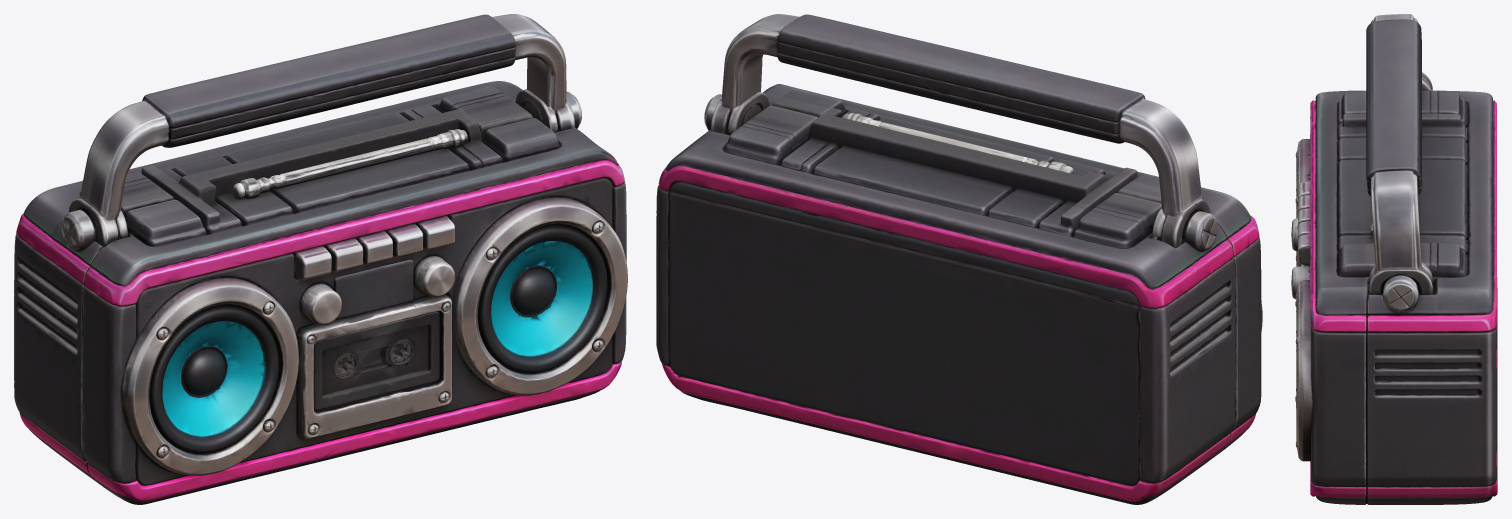
File: boombox.glb
3 views of the same model, side by side, from view 1: azimuth 30°, elevation 25°; view 2: azimuth 150°, elevation 25°; view 3: azimuth 270°, elevation 25° (orthographic). The views are drawn at different scales.
Parts seen in each view (by area): view 1: tripo_node_c67f16e3-a7a7-4614-bc60-88d25a675e02; view 2: tripo_node_c67f16e3-a7a7-4614-bc60-88d25a675e02; view 3: tripo_node_c67f16e3-a7a7-4614-bc60-88d25a675e02.
Boxes of the visible parts, <box> form: tripo_node_c67f16e3-a7a7-4614-bc60-88d25a675e02: <box>14,14,627,504</box>; tripo_node_c67f16e3-a7a7-4614-bc60-88d25a675e02: <box>656,14,1262,504</box>; tripo_node_c67f16e3-a7a7-4614-bc60-88d25a675e02: <box>1291,14,1497,504</box>.
Size of the model in its own units: 0.9813 by 0.6486 by 0.3844.
1 material, 1 textured.
